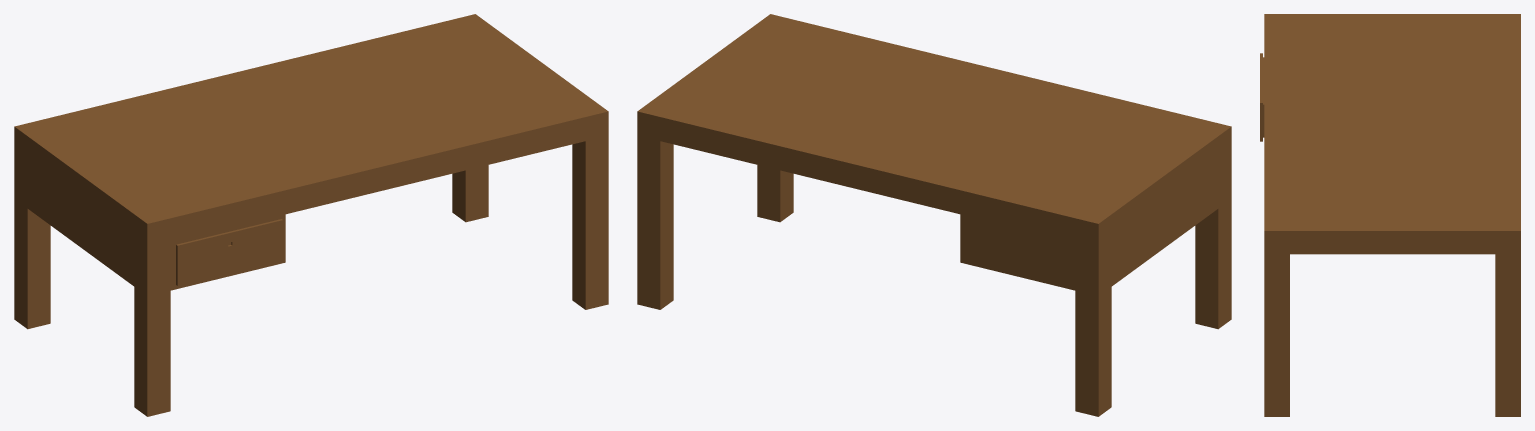
File: table.fbx
The picture shows the model from 3 angles, left to right: view 1: azimuth 30°, elevation 25°; view 2: azimuth 150°, elevation 25°; view 3: azimuth 270°, elevation 25°; orthographic projection. The views are drawn at different scales.
Visible parts, largest first — view 1: table, polka; view 2: table; view 3: table, polka.
Part boxes in pixels (<box>): table: <box>14,14,608,416</box>; polka: <box>176,219,282,285</box>; table: <box>637,14,1231,416</box>; table: <box>1264,14,1520,416</box>; polka: <box>1260,53,1264,141</box>.
Size of the model in its own units: 200 by 80 by 102.
